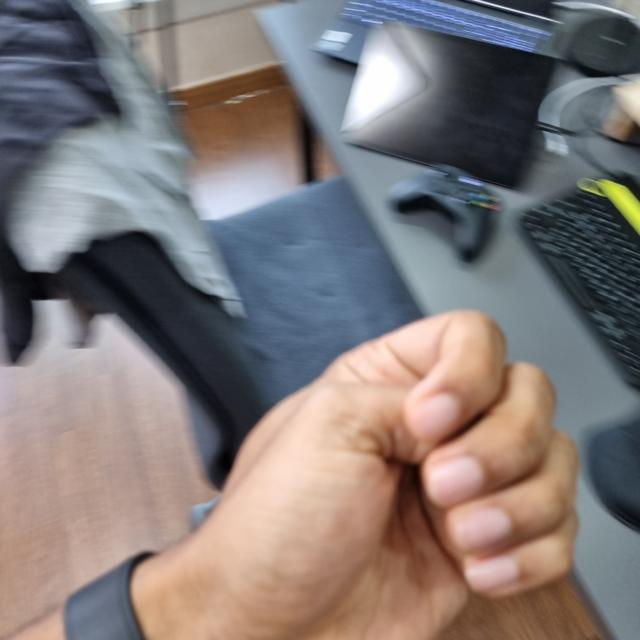Rock: (0, 314, 581, 639)
